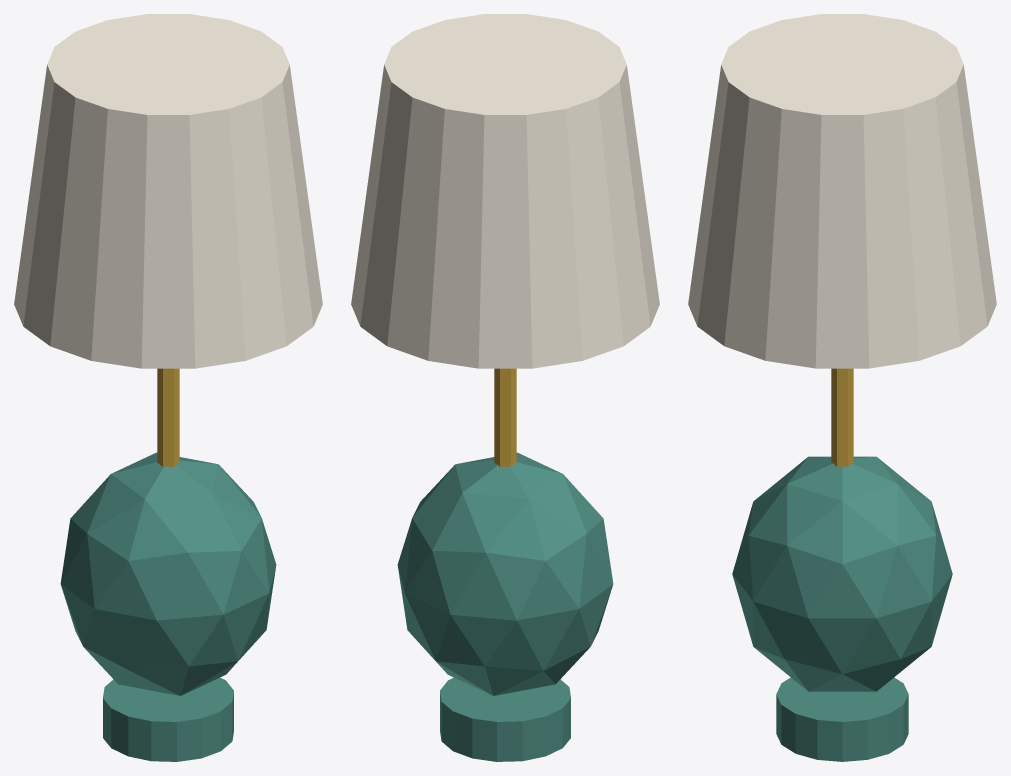
The model's file is table-lamp.glb.
3 views of the same model, side by side, from view 1: azimuth 30°, elevation 25°; view 2: azimuth 150°, elevation 25°; view 3: azimuth 270°, elevation 25° (orthographic).
Parts seen in each view (by area): view 1: table-lamp; view 2: table-lamp; view 3: table-lamp.
Boxes of the visible parts, x1,y1,x2,y2 form: table-lamp: [14, 14, 322, 761]; table-lamp: [351, 14, 659, 761]; table-lamp: [688, 14, 996, 761].
Bounding box in the file's own units: 0.2757 × 0.67 × 0.28.
